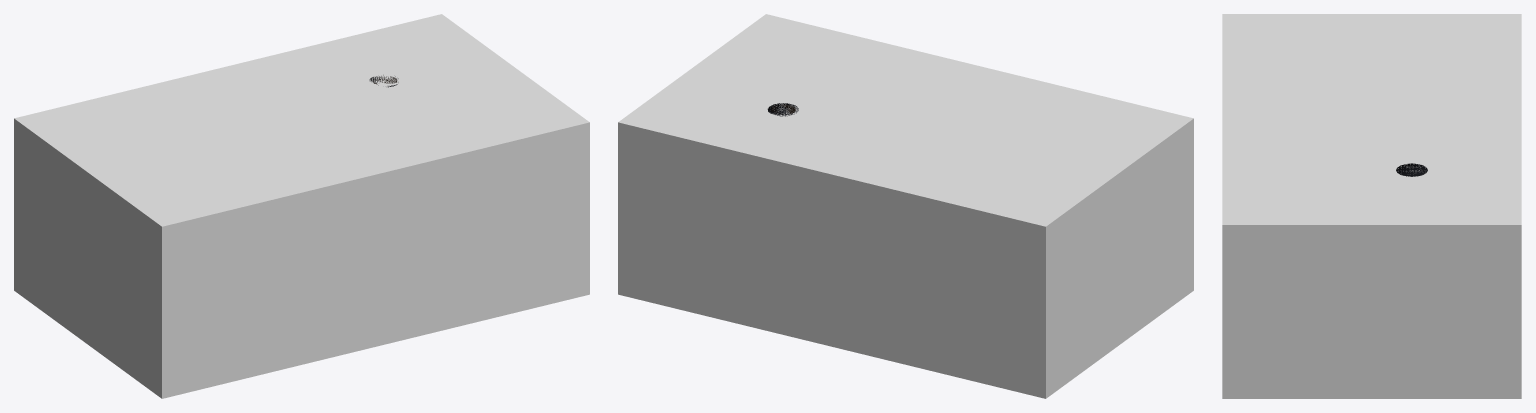
Rendered from Furn_CoffeeTable.gltf.
The picture shows the model from 3 angles, left to right: view 1: azimuth 30°, elevation 25°; view 2: azimuth 150°, elevation 25°; view 3: azimuth 270°, elevation 25°; orthographic projection.
Parts seen in each view (by area): view 1: Furn_CoffeeTable_COL; view 2: Furn_CoffeeTable_COL; view 3: Furn_CoffeeTable_COL, Furn_CoffeeTable.
Boxes of the visible parts, left/top/right/bottom form: Furn_CoffeeTable_COL: left=14, top=14, right=589, bottom=398; Furn_CoffeeTable_COL: left=618, top=14, right=1193, bottom=398; Furn_CoffeeTable_COL: left=1222, top=14, right=1521, bottom=398; Furn_CoffeeTable: left=1396, top=163, right=1427, bottom=176.
Bounding box in the file's own units: 1.25 × 0.522 × 0.748.
Materials: 6 (2 with a texture image).
